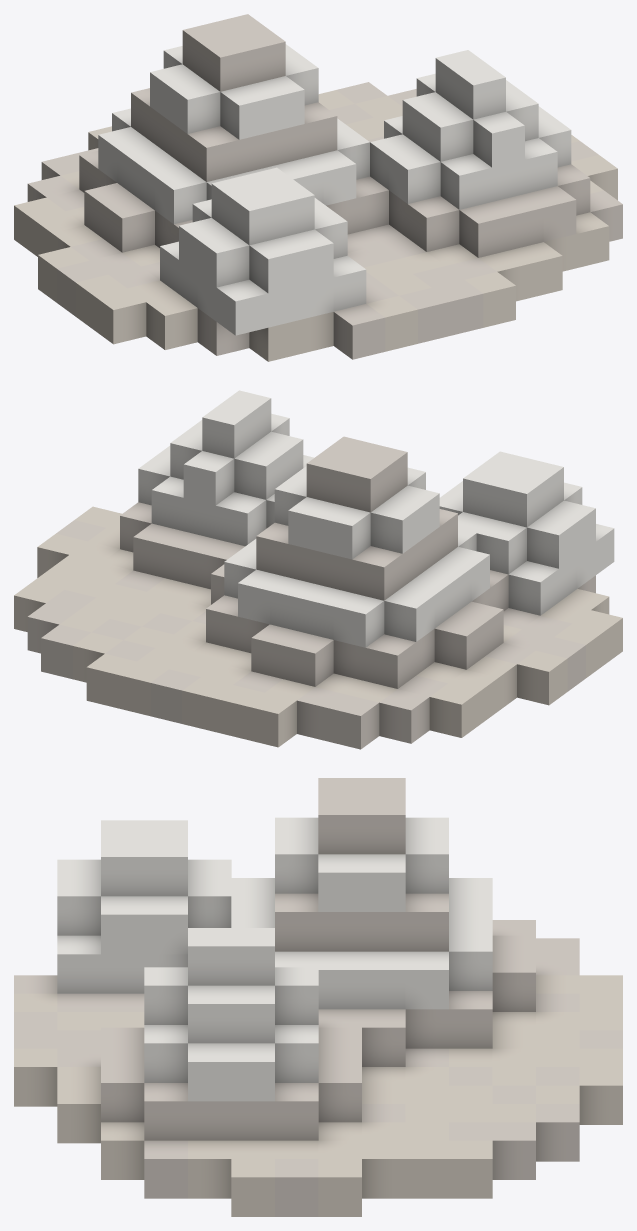
Rendered from r_salt.glb.
3 views of the same model, one above another, from view 1: azimuth 30°, elevation 25°; view 2: azimuth 150°, elevation 25°; view 3: azimuth 270°, elevation 25° (orthographic). The views are drawn at different scales.
Visible parts, largest first — view 1: r_salt_body; view 2: r_salt_body; view 3: r_salt_body.
Part boxes in pixels (left/top/right/bottom): r_salt_body: left=14, top=14, right=622, bottom=361; r_salt_body: left=14, top=390, right=622, bottom=749; r_salt_body: left=14, top=778, right=622, bottom=1216.
Bounding box in the file's own units: 1 × 0.375 × 0.875.
Materials: 1 (1 with a texture image).
